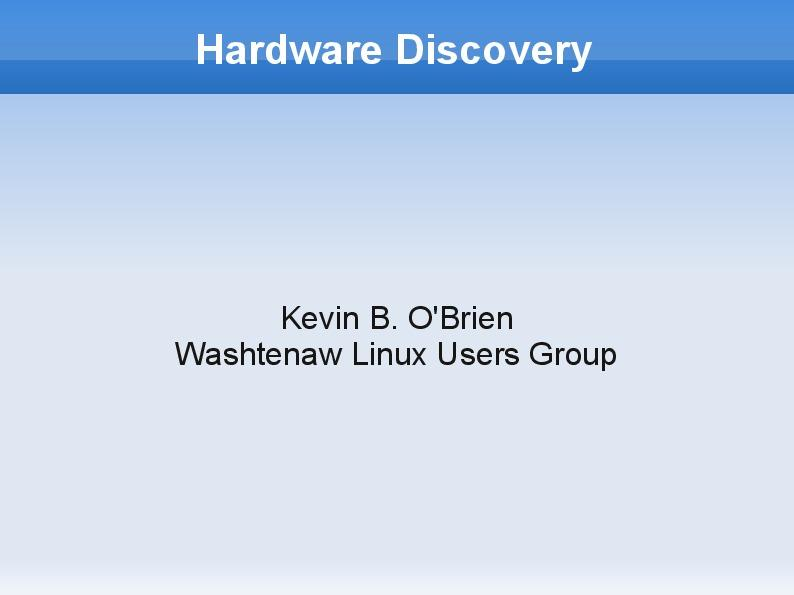subtitle: (152, 270, 657, 382)
title: (187, 22, 623, 88)
